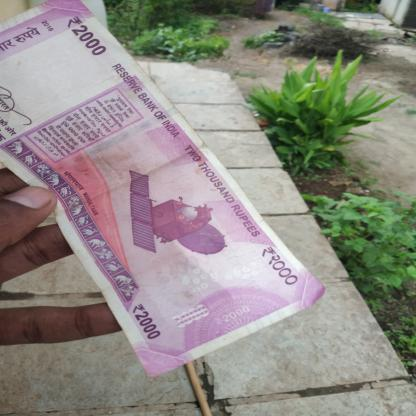New2000Back: (0, 0, 321, 372)
